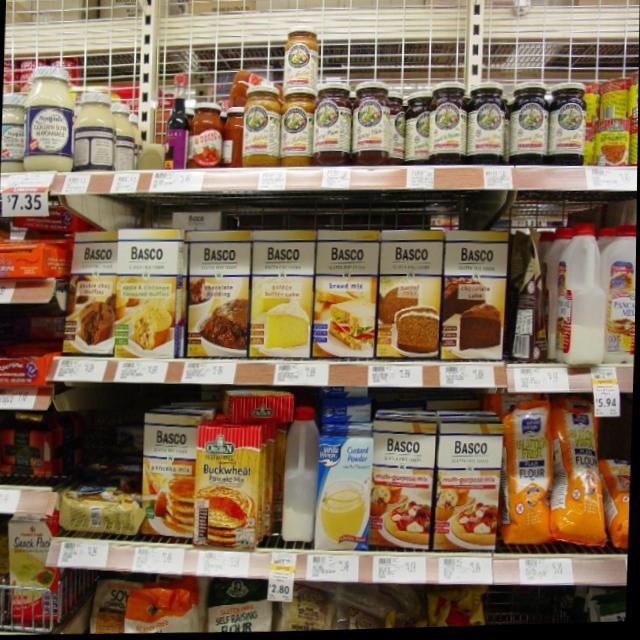q25: (191, 421, 270, 557)
q82: (315, 88, 354, 166), (513, 80, 552, 157), (429, 87, 467, 165), (468, 85, 504, 165), (351, 83, 388, 155), (551, 88, 585, 165)
